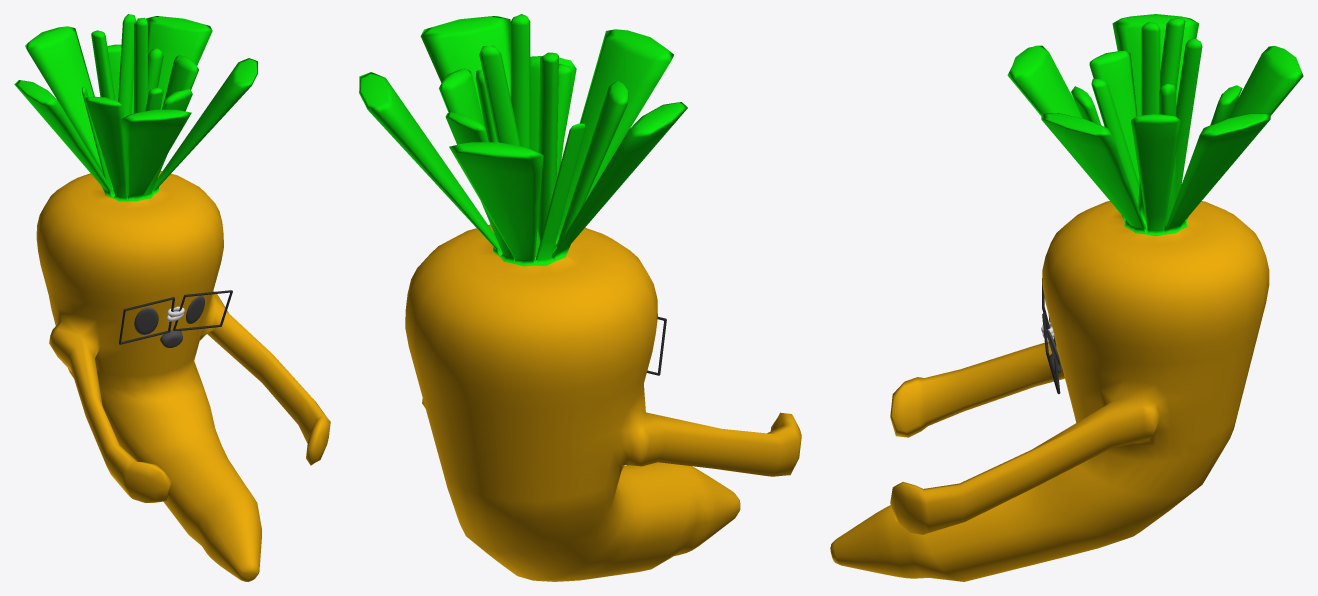
File: carrot_01_01.fbx
3 renders of one model, left to right at view 1: azimuth 30°, elevation 25°; view 2: azimuth 150°, elevation 25°; view 3: azimuth 270°, elevation 25°, orthographic. The views are drawn at different scales.
Visible parts, largest first — view 1: pCone3; view 2: pCone3; view 3: pCone3.
Boxes of the visible parts, x1,y1,x2,y2 form: pCone3: (14, 14, 330, 581); pCone3: (359, 14, 801, 581); pCone3: (830, 14, 1303, 581).
Bounding box in the file's own units: 1.09 × 2.33 × 1.78.
